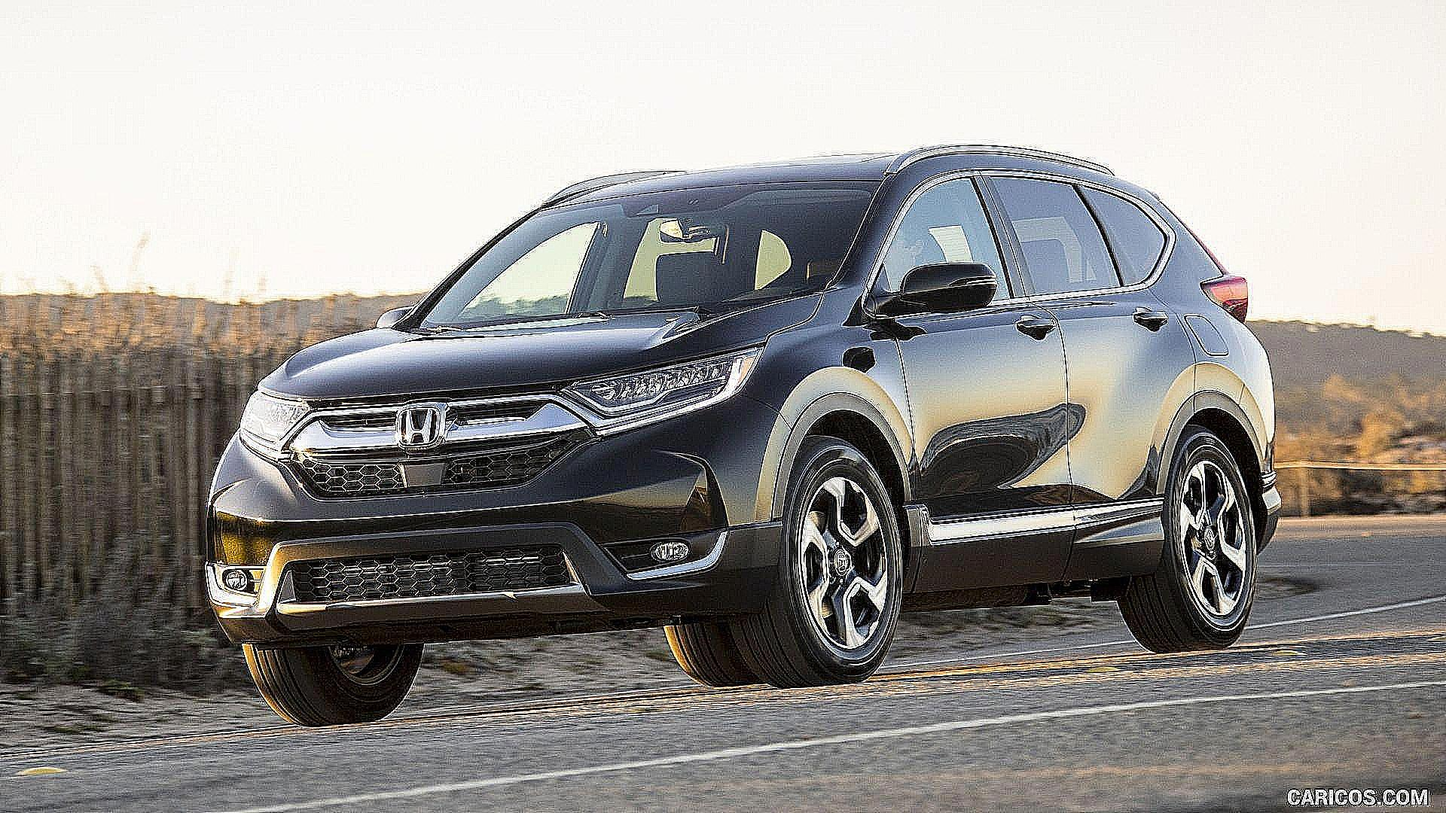Car hood: (253, 290, 833, 403)
Fender - -F-L-: (733, 274, 919, 601)
Fender - -R-L-: (1146, 259, 1251, 430)
Front bumper: (196, 403, 806, 654)
Headlight - -L-: (547, 340, 774, 441)
Headlight - -R-: (226, 374, 324, 466)
Passenger-s door - -F-L-: (896, 157, 1067, 545)
Passenger-s door - -R-L-: (1022, 157, 1199, 541)
Rear bumper: (1230, 306, 1293, 564)
Rear light - -L-: (1145, 187, 1260, 332)
Side bumper - -L-: (889, 494, 1184, 601)
Side mirror - -L-: (863, 259, 1004, 334)
Side mirror - -R-: (365, 298, 428, 338)
